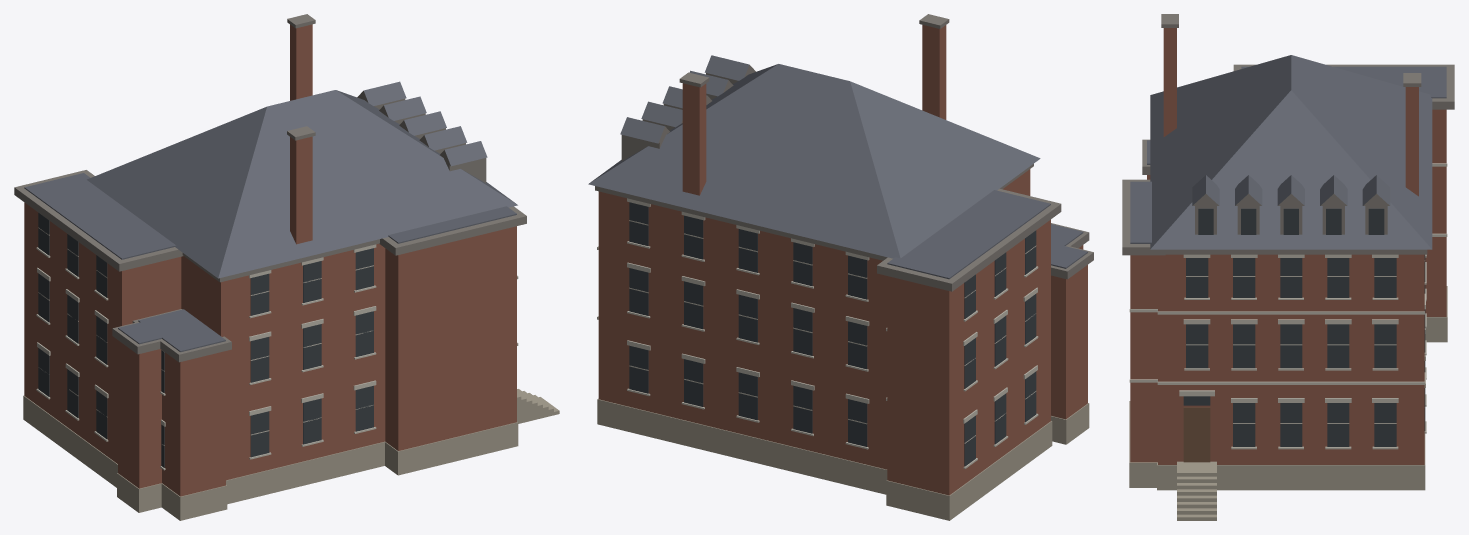
File: armour_corwith_house_1945_prairie__draft_1904.glb
3 renders of one model, left to right at view 1: azimuth 30°, elevation 25°; view 2: azimuth 150°, elevation 25°; view 3: azimuth 270°, elevation 25°, orthographic. The views are drawn at different scales.
Parts seen in each view (by area): view 1: armour_corwith_house_1945_prairie__draft_1904; view 2: armour_corwith_house_1945_prairie__draft_1904; view 3: armour_corwith_house_1945_prairie__draft_1904.
Boxes of the visible parts, x1,y1,x2,y2 form: armour_corwith_house_1945_prairie__draft_1904: [14, 14, 559, 520]; armour_corwith_house_1945_prairie__draft_1904: [588, 14, 1093, 520]; armour_corwith_house_1945_prairie__draft_1904: [1122, 14, 1454, 520].
Size of the model in its own units: 23 by 18.24 by 14.95.
